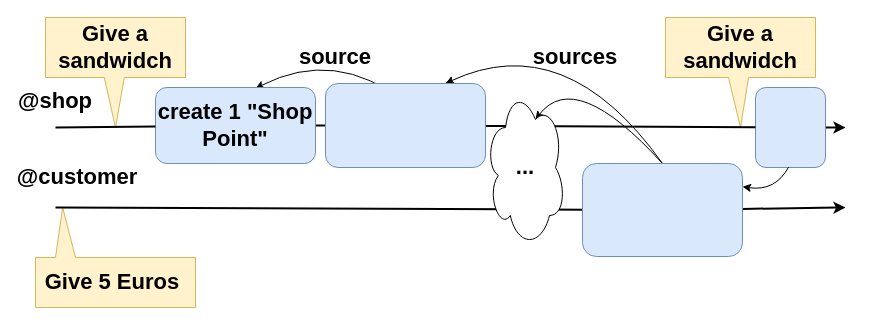
Image size: 872x325. Some labels were removed from this diagram. The centre of each missing label's shape, as x and y in pixels:
burn: pixel 790 127
give 1 "Shop Point" to @customer: pixel 405 125
give 10 "Shop Point" to @shop: pixel 662 209
